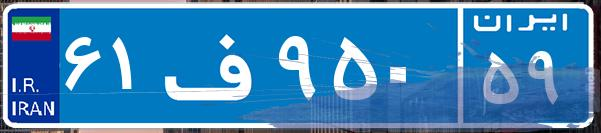0: (385, 28, 445, 110)
1: (110, 28, 158, 105)
5: (330, 28, 385, 110), (475, 38, 525, 113)
6: (57, 26, 110, 107)
9: (273, 28, 330, 110), (525, 38, 570, 115)
ف: (158, 15, 273, 115)
